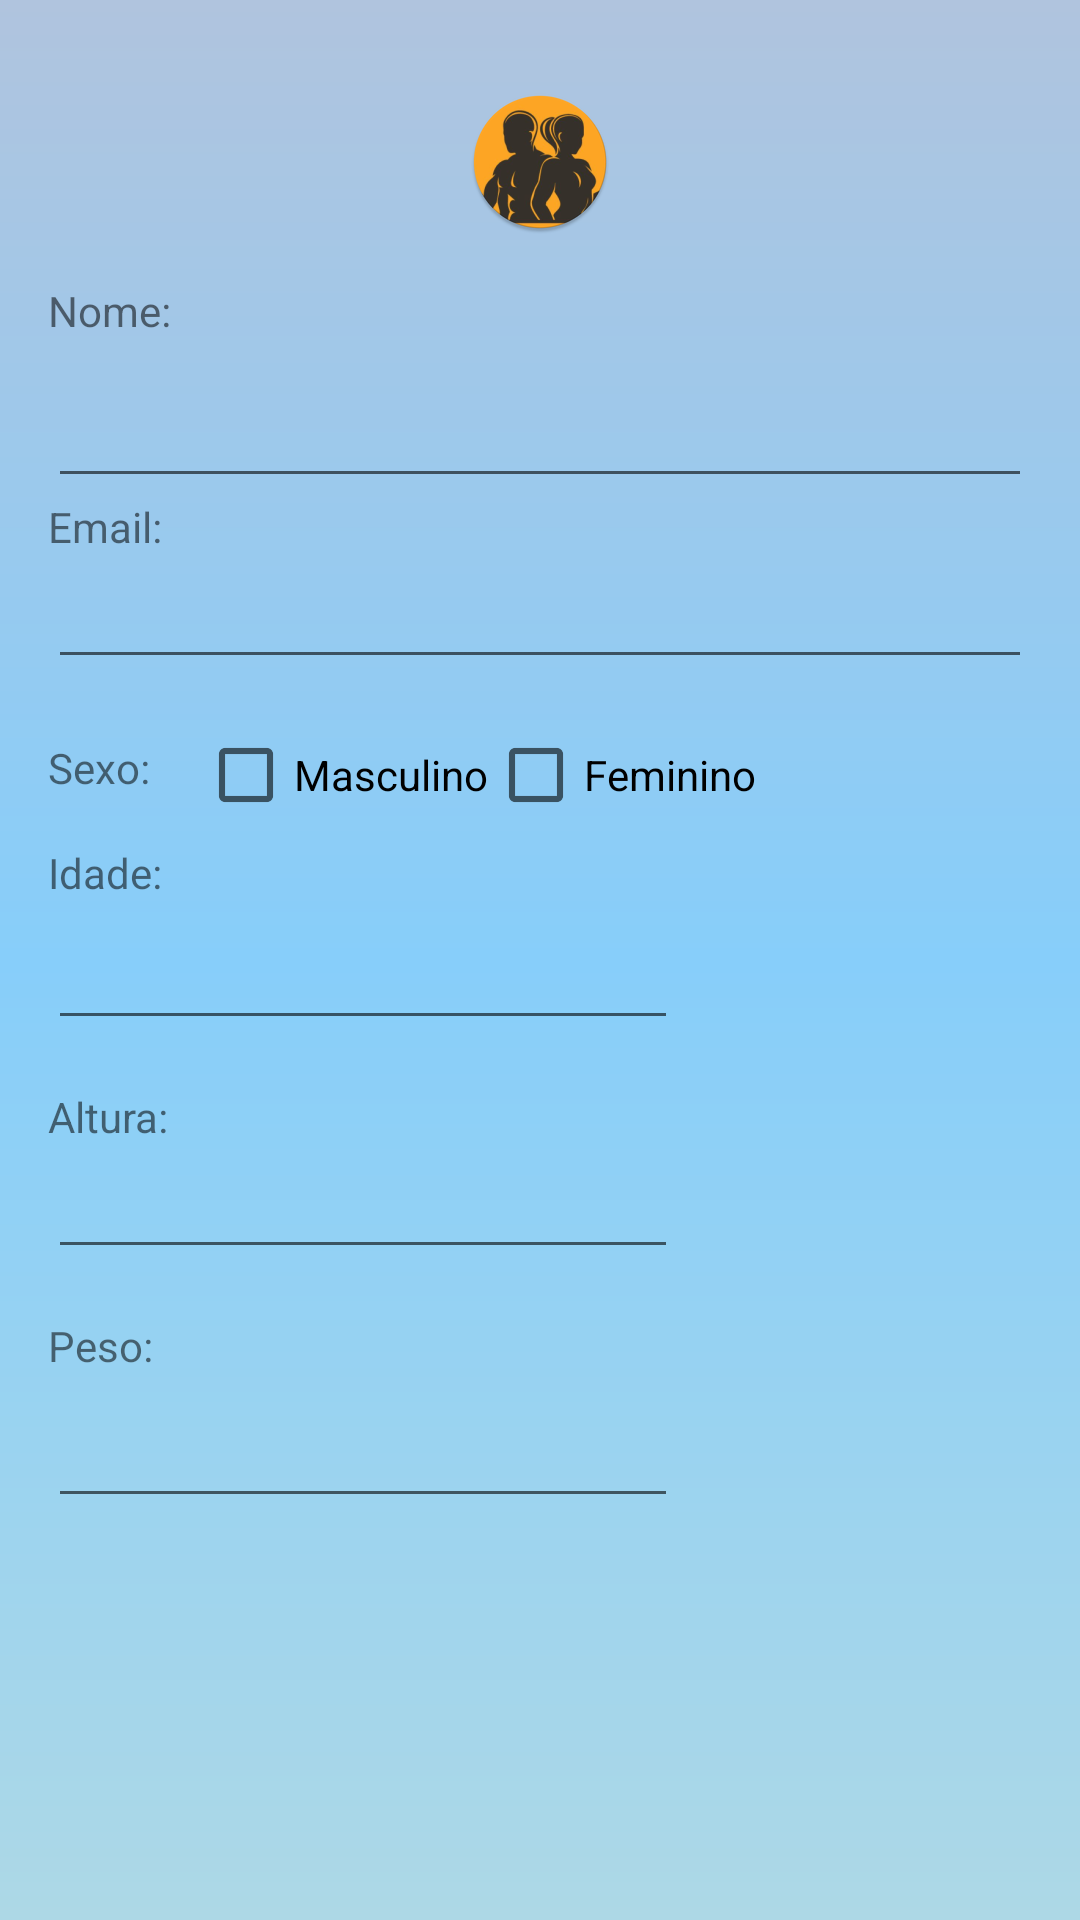

Screen size 1080px×1920px. Icon name, then its box in pixels as (x1, y1, x2, y2):
personal round: (473, 95, 607, 231)
